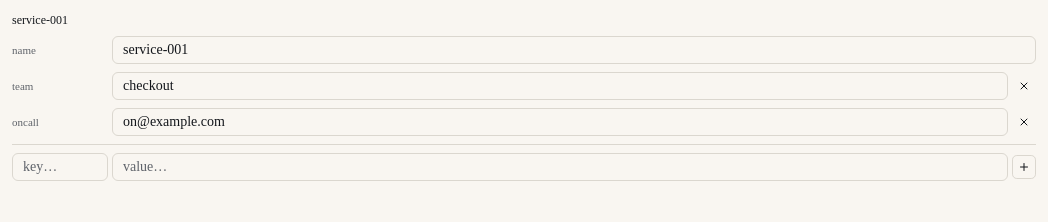
it: AttributesEditor › explains an oncall address that is not an email instead of saving it
Replace the text in the field labelled "oncall" with "not-an-email" at (560, 122), box [112,108,1008,136]
Then press Enter
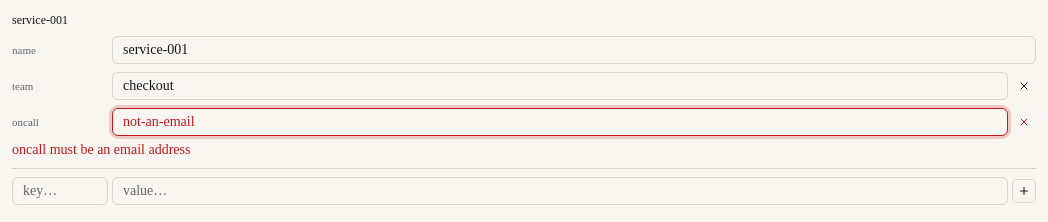
Now the text "oncall must be an email address" is shown, box [12,142,190,157]
